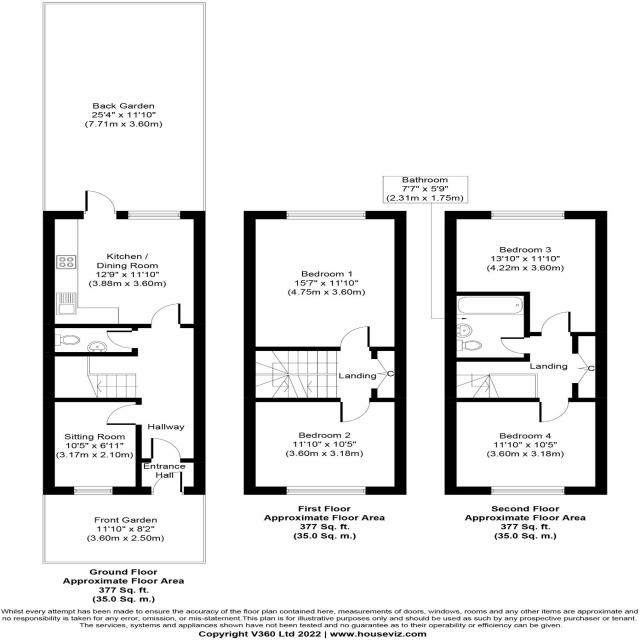DOOR: (85, 190, 118, 220), (338, 396, 372, 425), (337, 324, 372, 352), (538, 397, 572, 424), (104, 403, 143, 426), (149, 302, 182, 329), (539, 310, 572, 337), (151, 437, 183, 463), (152, 470, 184, 495), (104, 330, 139, 350), (498, 336, 532, 355)
ROOM: (243, 210, 407, 351), (42, 190, 206, 328), (444, 210, 608, 337), (242, 397, 408, 495), (444, 397, 608, 495), (43, 397, 143, 495)
WINDOW: (284, 485, 368, 496), (489, 485, 567, 496), (284, 210, 369, 220), (489, 210, 567, 220), (127, 210, 182, 220), (73, 486, 114, 496)
